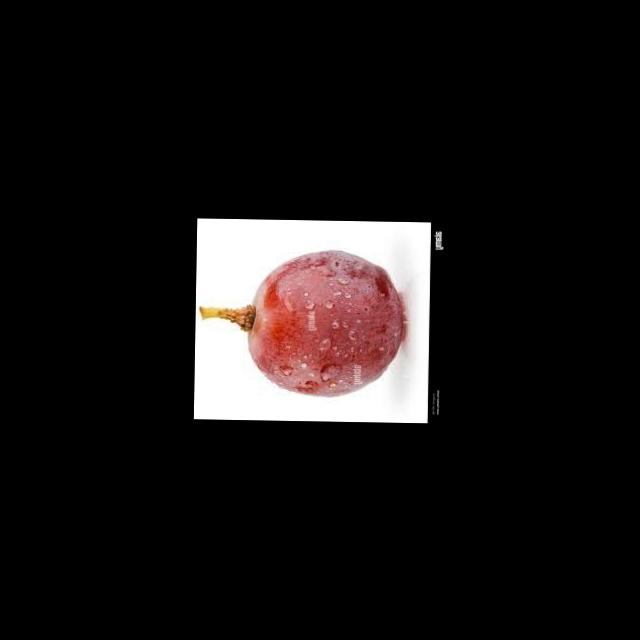grape: (196, 246, 407, 398)
